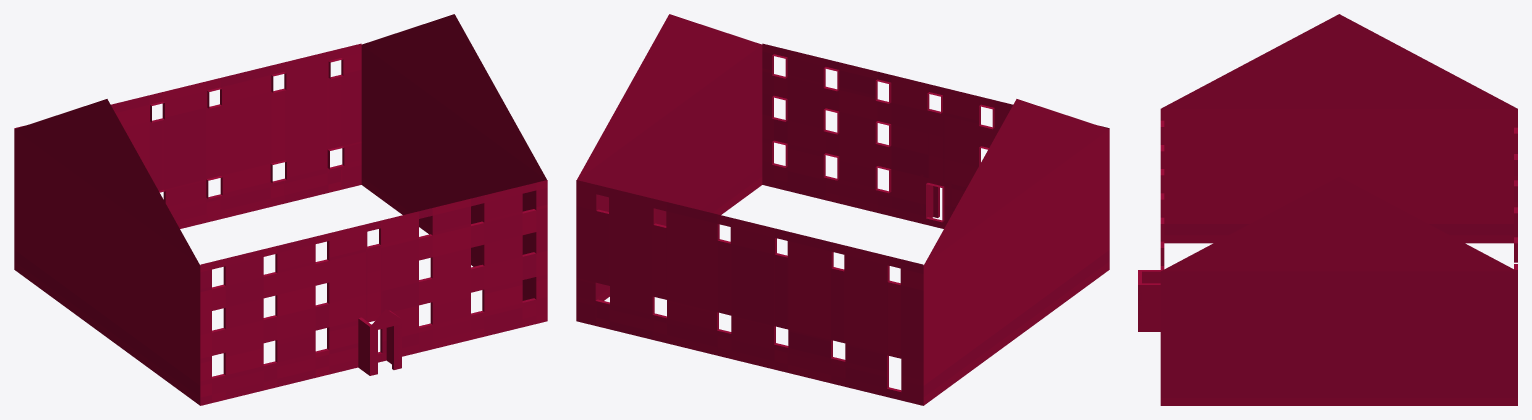
The model's file is SM_Bld_046_Masonry.glb.
3 renders of one model, left to right at view 1: azimuth 30°, elevation 25°; view 2: azimuth 150°, elevation 25°; view 3: azimuth 270°, elevation 25°, orthographic. The views are drawn at different scales.
Visible parts, largest first — view 1: SM_Bld_046_Masonry; view 2: SM_Bld_046_Masonry; view 3: SM_Bld_046_Masonry.
Part boxes in pixels (<box>): SM_Bld_046_Masonry: <box>14,14,547,405</box>; SM_Bld_046_Masonry: <box>576,14,1109,405</box>; SM_Bld_046_Masonry: <box>1138,14,1517,405</box>.
Size of the model in its own units: 21.78 by 14.32 by 21.51.
